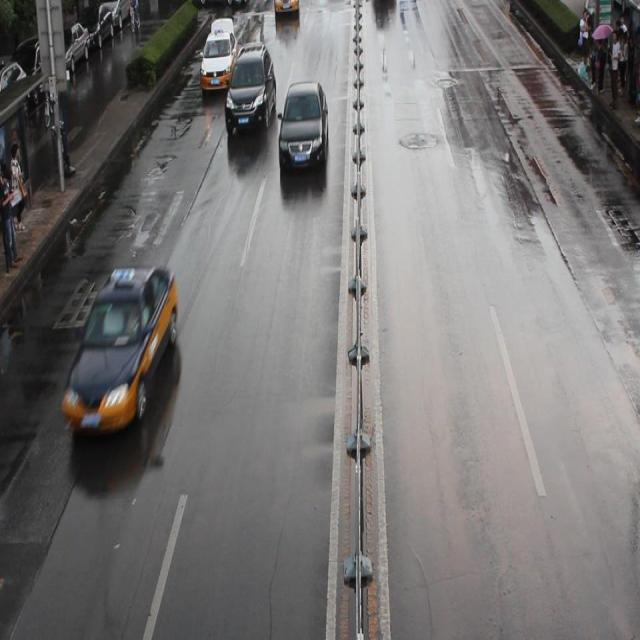car: (63, 264, 178, 433), (223, 44, 276, 133), (278, 79, 328, 171), (200, 30, 238, 91), (273, 1, 299, 17), (371, 1, 396, 7)
